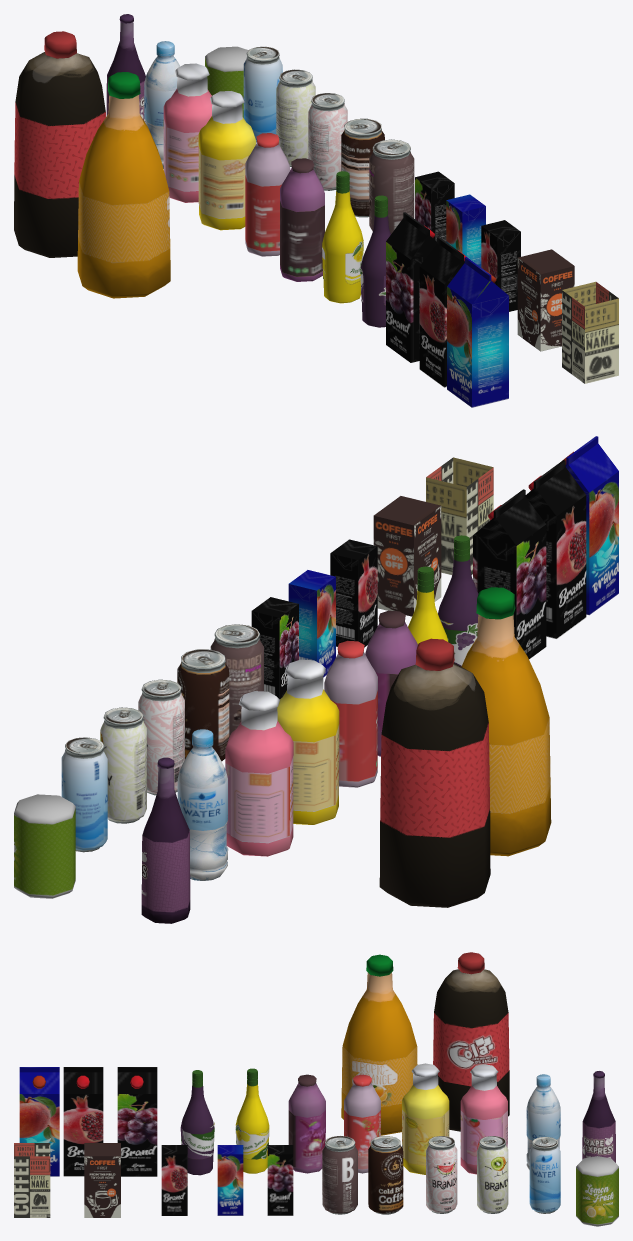
Rendered from DrinkUpdate.fbx.
3 renders of one model, top to bottom at view 1: azimuth 30°, elevation 25°; view 2: azimuth 150°, elevation 25°; view 3: azimuth 270°, elevation 25°, orthographic. The views are drawn at different scales.
Parts seen in each view (by area): view 1: Drink, Drink.002, Drink.009, Drink.013, Drink.010, Drink.014, Drink.008, Drink.016, Drink.007, Drink.015, Drink.003, Drink.023 (+12 smaller); view 2: Drink.002, Drink, Drink.014, Drink.008, Drink.013, Drink.003, Drink.007, Drink.001, Drink.011, Drink.015, Drink.012, Drink.009 (+12 smaller); view 3: Drink.002, Drink, Drink.008, Drink.003, Drink.013, Drink.014, Drink.009, Drink.016, Drink.011, Drink.007, Drink.010, Drink.017 (+12 smaller).
Boxes of the visible parts, <box> form: Drink: <box>77,72,170,298</box>; Drink.002: <box>14,31,105,257</box>; Drink.009: <box>447,257,508,407</box>; Drink.013: <box>198,91,255,230</box>; Drink.010: <box>562,281,618,383</box>; Drink.014: <box>163,63,212,202</box>; Drink.008: <box>386,212,436,362</box>; Drink.016: <box>280,158,324,281</box>; Drink.007: <box>517,249,574,351</box>; Drink.015: <box>245,133,290,256</box>; Drink.003: <box>419,237,467,387</box>; Drink.023: <box>322,171,363,303</box>; Drink.002: <box>379,638,490,907</box>; Drink: <box>461,587,551,856</box>; Drink.014: <box>225,691,293,856</box>; Drink.008: <box>473,489,546,659</box>; Drink.013: <box>277,659,339,824</box>; Drink.003: <box>525,460,586,638</box>; Drink.007: <box>373,496,441,616</box>; Drink.001: <box>141,757,190,923</box>; Drink.011: <box>14,794,75,898</box>; Drink.015: <box>324,640,377,787</box>; Drink.012: <box>177,729,228,880</box>; Drink.009: <box>562,436,618,615</box>; Drink.002: <box>433,952,509,1131</box>; Drink: <box>341,954,417,1135</box>; Drink.008: <box>117,1067,157,1176</box>; Drink.003: <box>63,1067,103,1176</box>; Drink.013: <box>402,1063,449,1174</box>; Drink.014: <box>460,1064,507,1174</box>; Drink.009: <box>19,1067,59,1176</box>; Drink.016: <box>288,1074,325,1173</box>; Drink.011: <box>576,1156,618,1226</box>; Drink.007: <box>84,1143,120,1217</box>; Drink.010: <box>14,1143,50,1217</box>; Drink.017: <box>368,1136,403,1214</box>.
Bounding box in the file's own units: 631 × 396 × 1317.
Materials: 5 (5 with a texture image).
